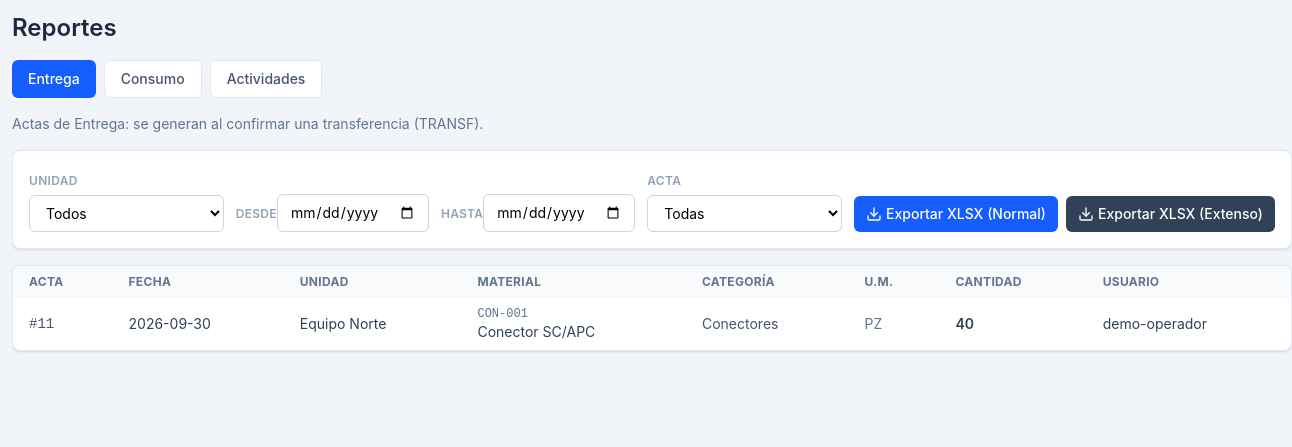
Test case: Reportes — exportación XLSX (descarga de blob) › 404: mensaje accionable de "sin actas" con el detalle del servidor y sin descarga
The image size is (1292, 447).
Check: the text "Conector SC/APC" is shown, box [478,323,595,340]
Click the button "Exportar XLSX (Normal)". click: (956, 214)
box: [854,196,1058,232]
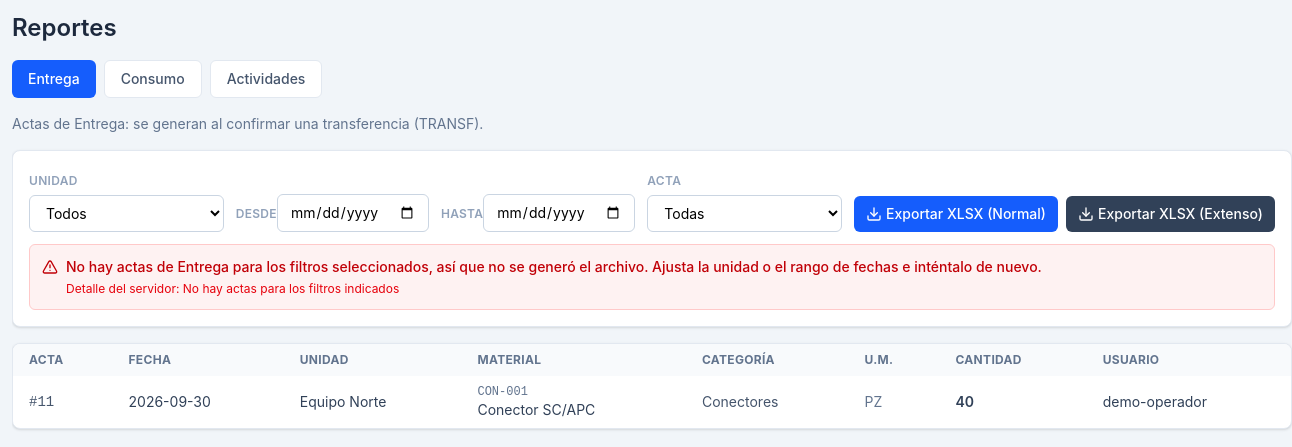
Check: the message shows "No hay actas de Entrega para los filtros", box [66,258,1042,275]
Check: the message shows "Detalle del servidor: No hay actas para los filtros indicados", box [29,244,1275,310]
